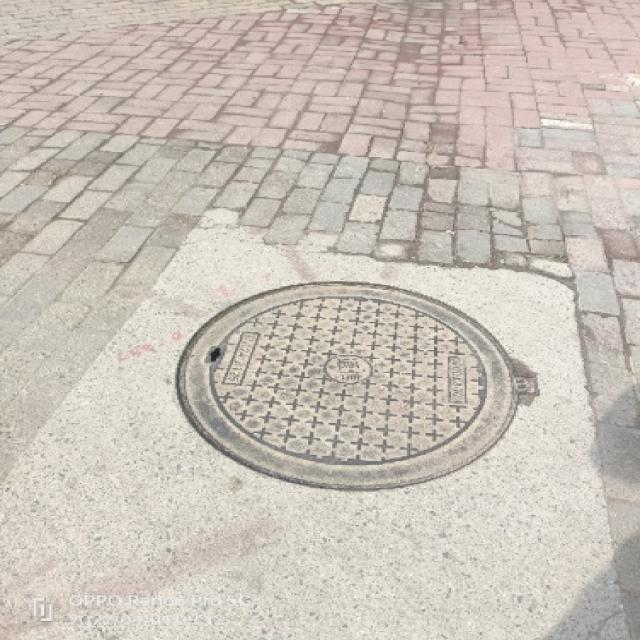Good: (166, 272, 542, 506)
